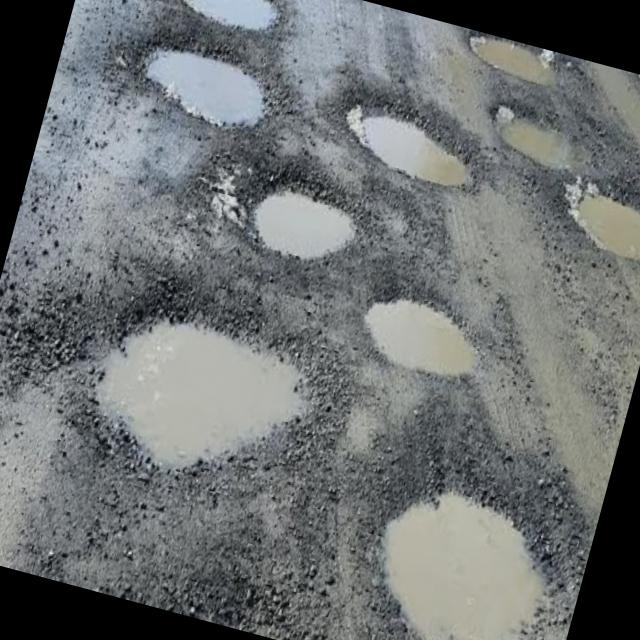Potholes: (76, 293, 326, 499), (359, 454, 590, 640), (220, 154, 396, 280), (319, 86, 494, 208), (125, 24, 292, 144), (349, 275, 490, 400), (478, 93, 602, 190), (552, 156, 640, 281), (458, 30, 571, 110), (162, 0, 296, 52)
